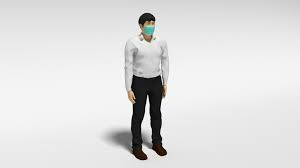masked: (137, 12, 158, 39)
